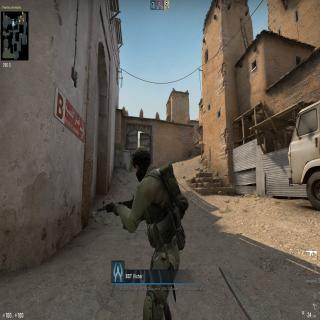CT-Head: (131, 143, 153, 182)
